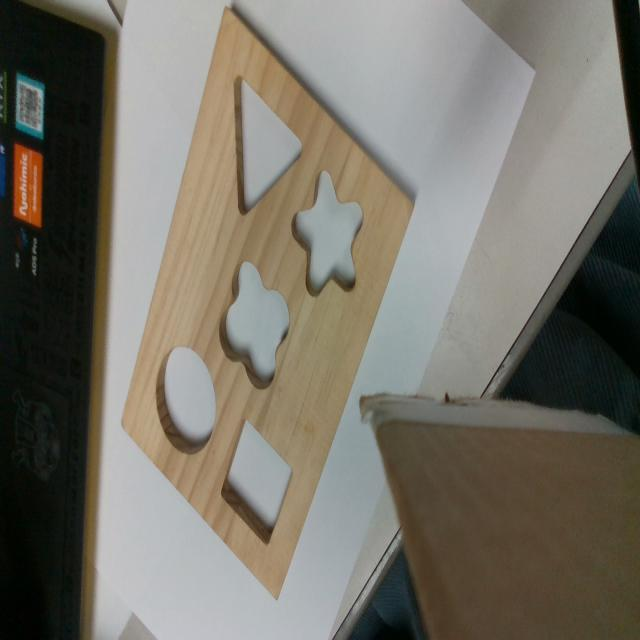circle: (157, 347, 216, 451)
flower: (223, 261, 288, 392)
square: (219, 417, 294, 545)
star: (291, 174, 362, 294)
triangle: (231, 75, 304, 218)
